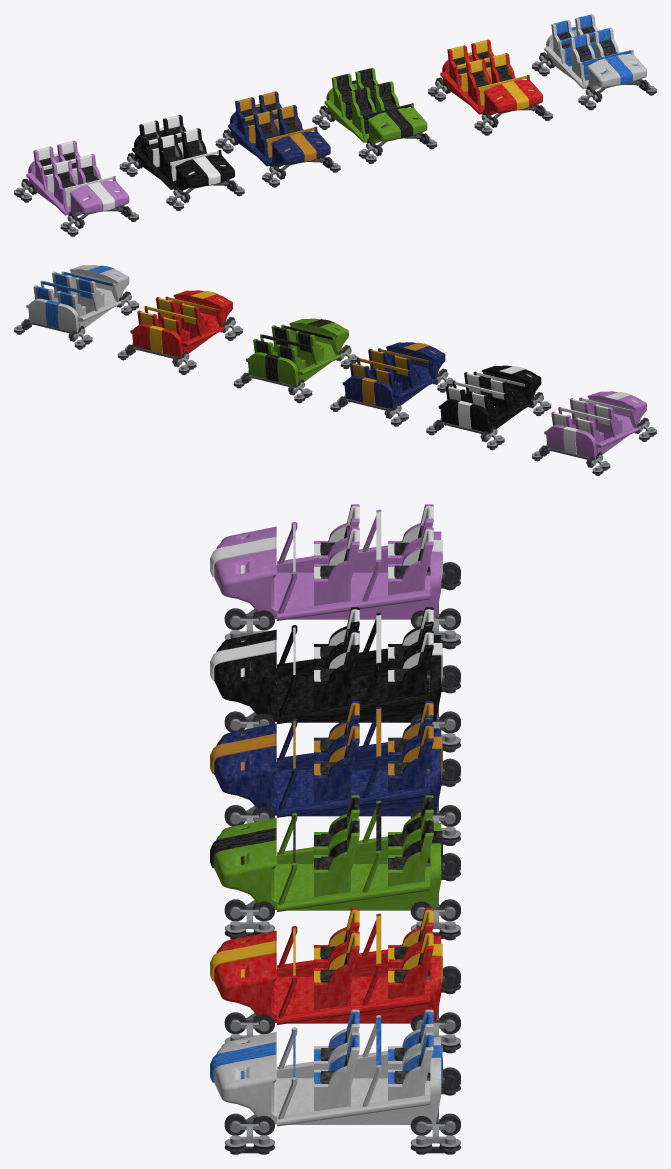
File: Carts textured.fbx
3 views of the same model, one above another, from view 1: azimuth 30°, elevation 25°; view 2: azimuth 150°, elevation 25°; view 3: azimuth 270°, elevation 25° (orthographic). The views are drawn at different scales.
Parts seen in each view (by area): view 1: Cart.002, Cart.003, Cart, Cart.001, Cart.005, Cart.004, Wheels Front, Wheels Front.004, Wheels Front.005, Wheels Front.003, Wheels Front.002, Wheels Front.001; view 2: Cart.005, Cart.002, Cart, Cart.001, Cart.004, Cart.003, Wheels Front.005, Wheels Front.001, Wheels Front.004, Wheels Front, Wheels Front.003, Wheels Front.002; view 3: Cart.003, Cart.005, Cart, Cart.004, Cart.002, Cart.001, Wheels Front.005, Wheels Front.003, Wheels Front, Wheels Front.004, Wheels Front.002, Wheels Front.001.
Boxes of the visible parts, box(x1,y1,x2,y2) form: Cart.002: box(228, 91, 330, 167); Cart.003: box(324, 68, 427, 143); Cart: box(26, 140, 129, 216); Cart.001: box(132, 115, 234, 190); Cart.005: box(544, 14, 646, 90); Cart.004: box(440, 39, 542, 115); Wheels Front: box(14, 178, 138, 236); Wheels Front.004: box(428, 77, 552, 135); Wheels Front.005: box(532, 52, 656, 110); Wheels Front.003: box(312, 105, 437, 163); Wheels Front.002: box(215, 129, 340, 187); Wheels Front.001: box(119, 152, 244, 210); Cart.005: box(26, 265, 129, 332); Cart.002: box(342, 342, 445, 410); Cart: box(544, 391, 646, 459); Cart.001: box(438, 365, 541, 433); Cart.004: box(130, 290, 232, 358); Cart.003: box(246, 318, 348, 386); Wheels Front.005: box(14, 291, 138, 349); Wheels Front.001: box(426, 392, 551, 450); Wheels Front.004: box(118, 316, 242, 374); Wheels Front: box(532, 417, 656, 475); Wheels Front.003: box(233, 345, 358, 403); Wheels Front.002: box(330, 368, 454, 426); Cart.003: box(210, 795, 442, 911); Cart.005: box(210, 1009, 442, 1126); Cart: box(210, 504, 442, 620); Cart.004: box(210, 908, 442, 1024); Cart.002: box(210, 701, 442, 817); Cart.001: box(210, 607, 442, 724); Wheels Front.005: box(224, 1067, 460, 1154); Wheels Front.003: box(224, 853, 460, 940); Wheels Front: box(224, 562, 460, 649); Wheels Front.004: box(224, 966, 460, 1053); Wheels Front.002: box(224, 758, 460, 845); Wheels Front.001: box(224, 665, 460, 752).
Bounding box in the file's own units: 1241 × 94.25 × 230.
